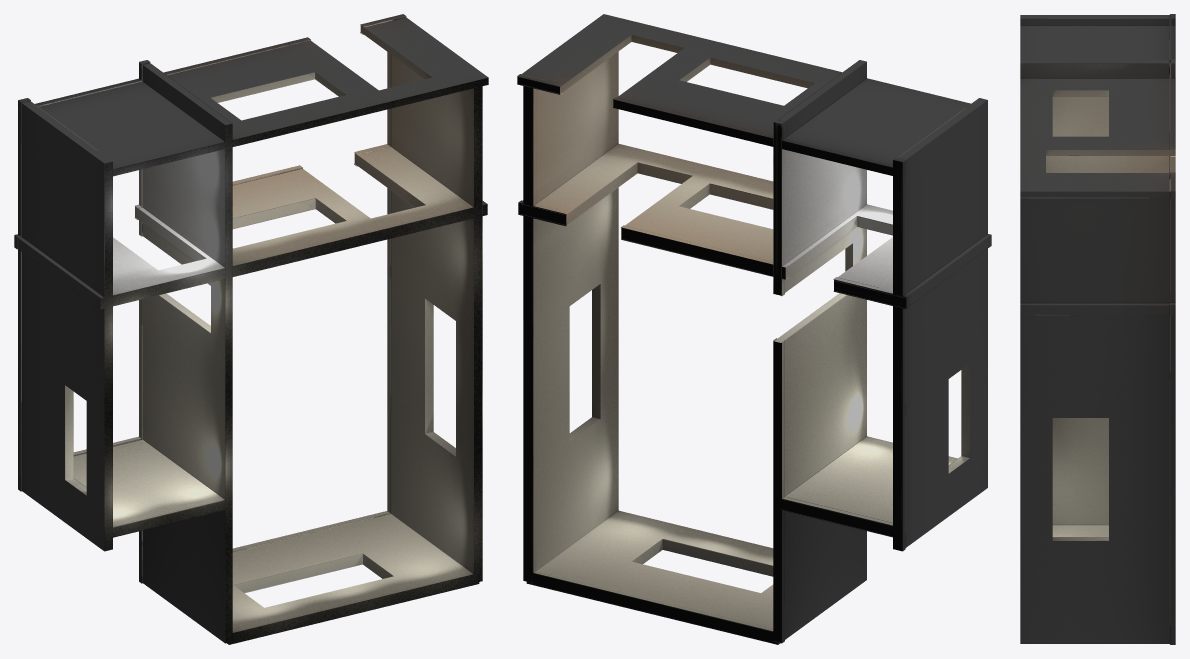
Rendered from wall_vm.obj.
3 renders of one model, left to right at view 1: azimuth 30°, elevation 25°; view 2: azimuth 150°, elevation 25°; view 3: azimuth 270°, elevation 25°, orthographic. The views are drawn at different scales.
Bounding box in the file's own units: 6.28 × 8.05 × 2.4.
Materials: 1 (1 with a texture image).
